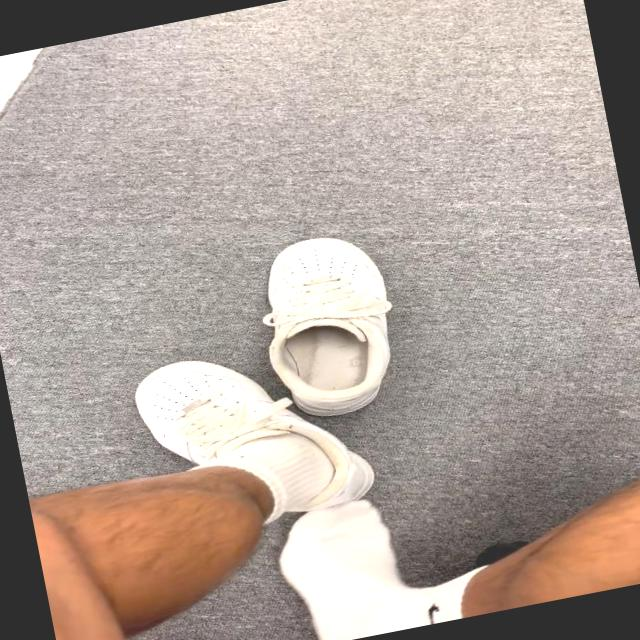nike_original_airforce: (122, 326, 383, 554), (242, 228, 418, 434)
